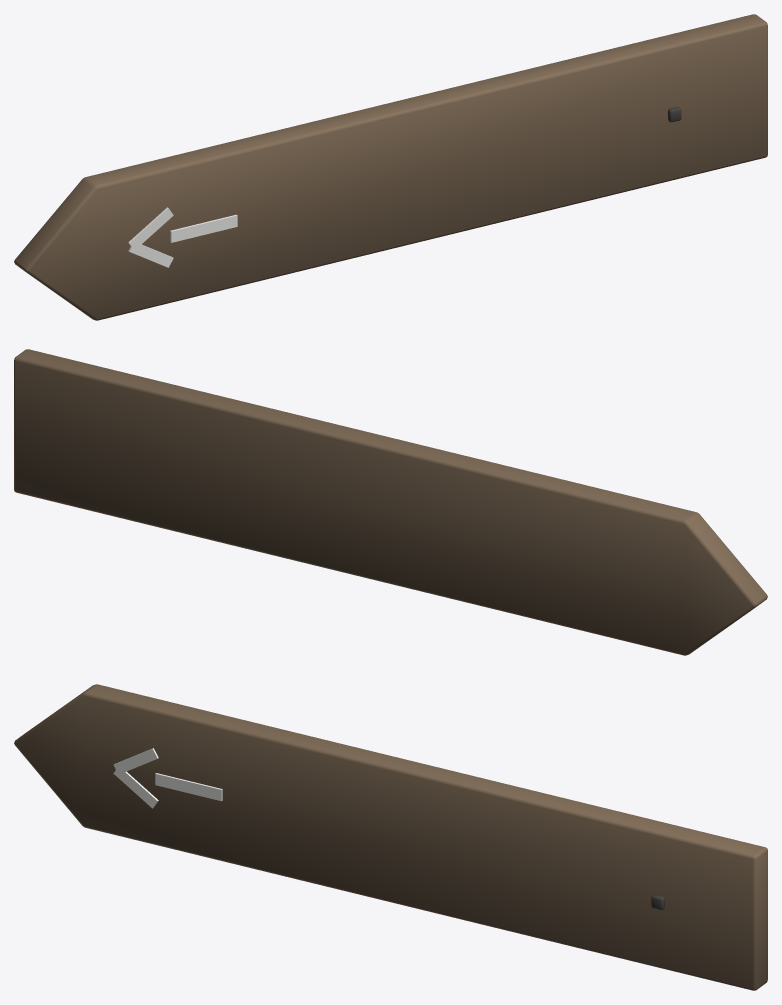
The model's file is dir_board_l.glb.
The picture shows the model from 3 angles, top to bottom: view 1: azimuth 30°, elevation 25°; view 2: azimuth 150°, elevation 25°; view 3: azimuth 330°, elevation 25°; orthographic projection.
Visible parts, largest first — view 1: g_signbrown, g_whitepaint; view 2: g_signbrown; view 3: g_signbrown, g_whitepaint.
Part boxes in pixels (bbox=[...]): g_signbrown: bbox=[14, 14, 767, 320]; g_whitepaint: bbox=[128, 207, 237, 267]; g_signbrown: bbox=[14, 349, 767, 655]; g_signbrown: bbox=[14, 684, 767, 990]; g_whitepaint: bbox=[113, 748, 222, 808].
Bounding box in the file's own units: 1.55 × 0.27 × 0.061.
